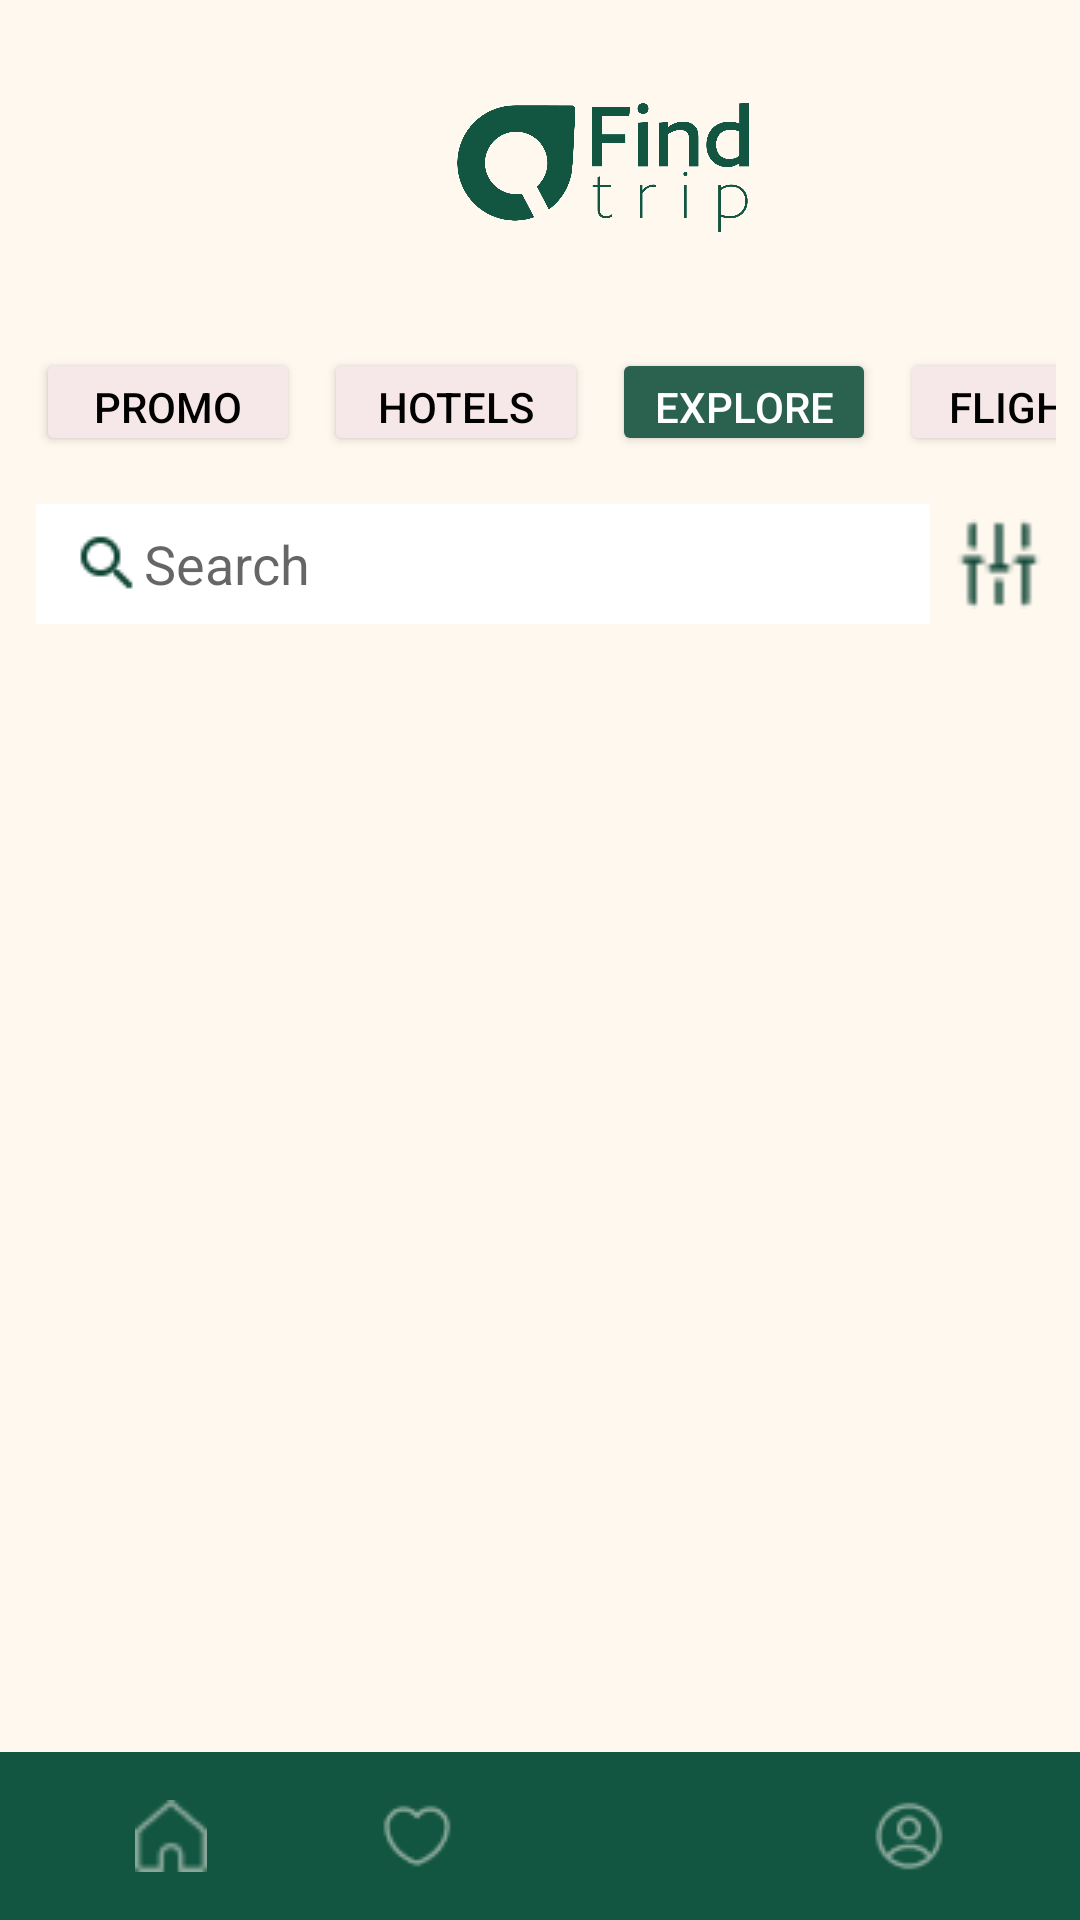

Named icons in this screenshot (1080px x 1920px) and their bounding boxes, (x1, y1, x2, y2):
favorite: (383, 1805, 451, 1866)
home: (135, 1800, 207, 1872)
profile: (875, 1802, 943, 1870)
